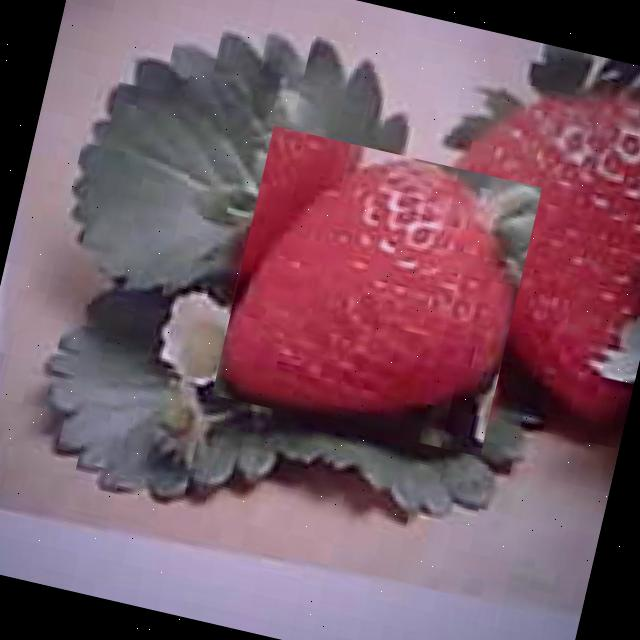ripe: (212, 126, 542, 457), (404, 60, 640, 427)
